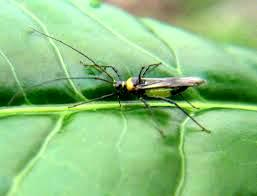Helopeltis-insect: (112, 70, 208, 102)
